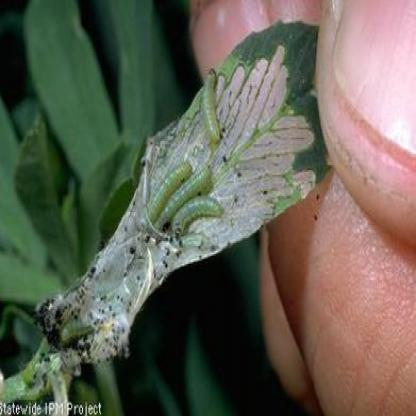armyworm: (147, 163, 222, 220), (140, 158, 193, 226), (197, 60, 225, 148), (170, 194, 228, 230)
